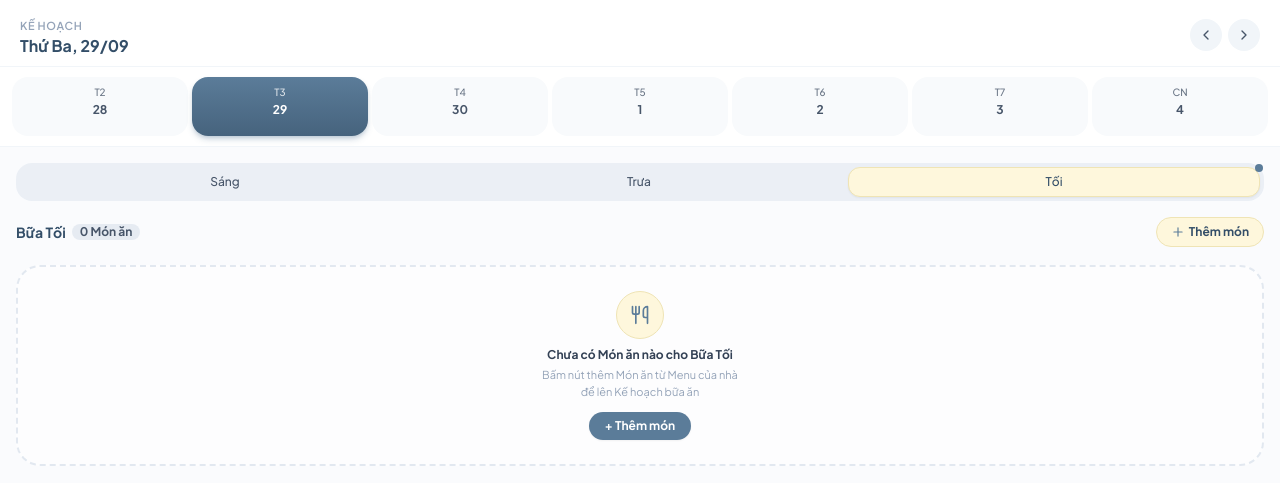
Scenario: Weekly Plan Integration › allows switching between Bữa Sáng, Bữa Trưa, and Bữa Tối tabs
Expected: the heading "Bữa Tối 0 Món ăn" is shown, left=16, top=222, right=140, bottom=242
// Switch to Bữa Trưa
Click the button with test id "meal-tab-lunch" at (639, 182), box left=434, top=167, right=844, bottom=197
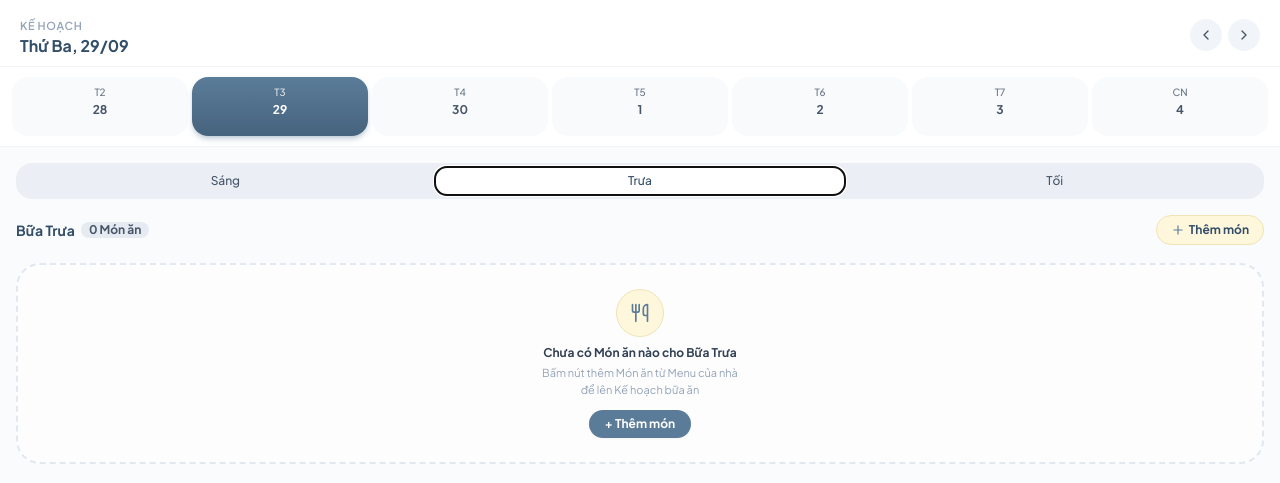
Expected: the heading "Bữa Trưa 0 Món ăn" is shown, left=16, top=220, right=149, bottom=240
// Switch to Bữa Sáng
Click the button with test id "meal-tab-breakfast" at (225, 181), box left=20, top=167, right=431, bottom=195
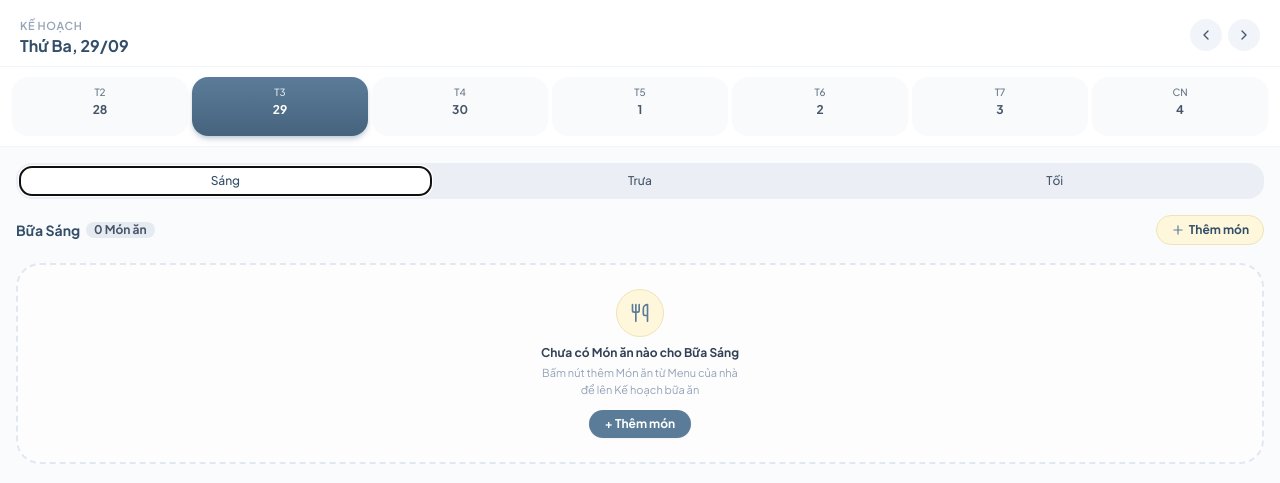
Expected: the heading "Bữa Sáng 0 Món ăn" is shown, left=16, top=220, right=155, bottom=240
// Switch back to Bữa Tối
Click the button with test id "meal-tab-dinner" at (1055, 181), box left=849, top=167, right=1260, bottom=195
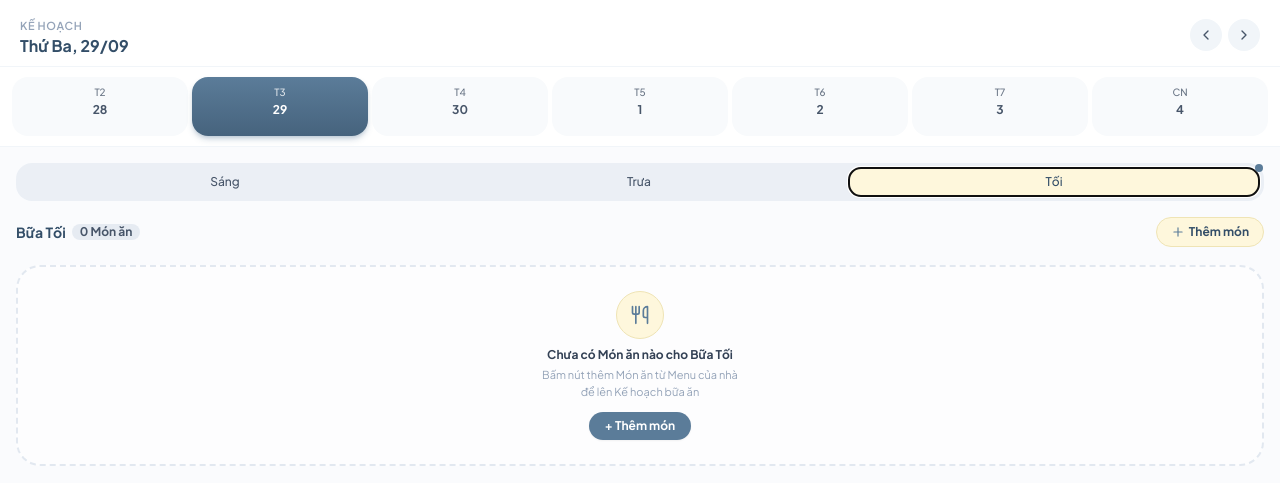
Expected: the heading "Bữa Tối 0 Món ăn" is shown, left=16, top=222, right=140, bottom=242
